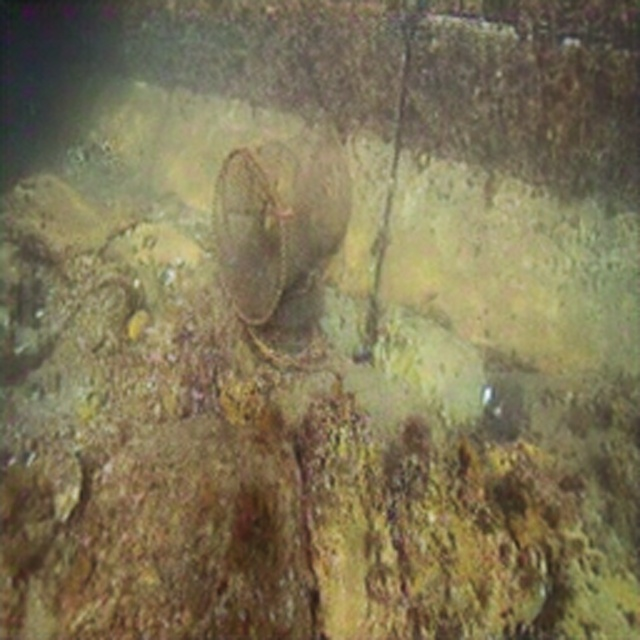mine: (210, 119, 353, 328)
